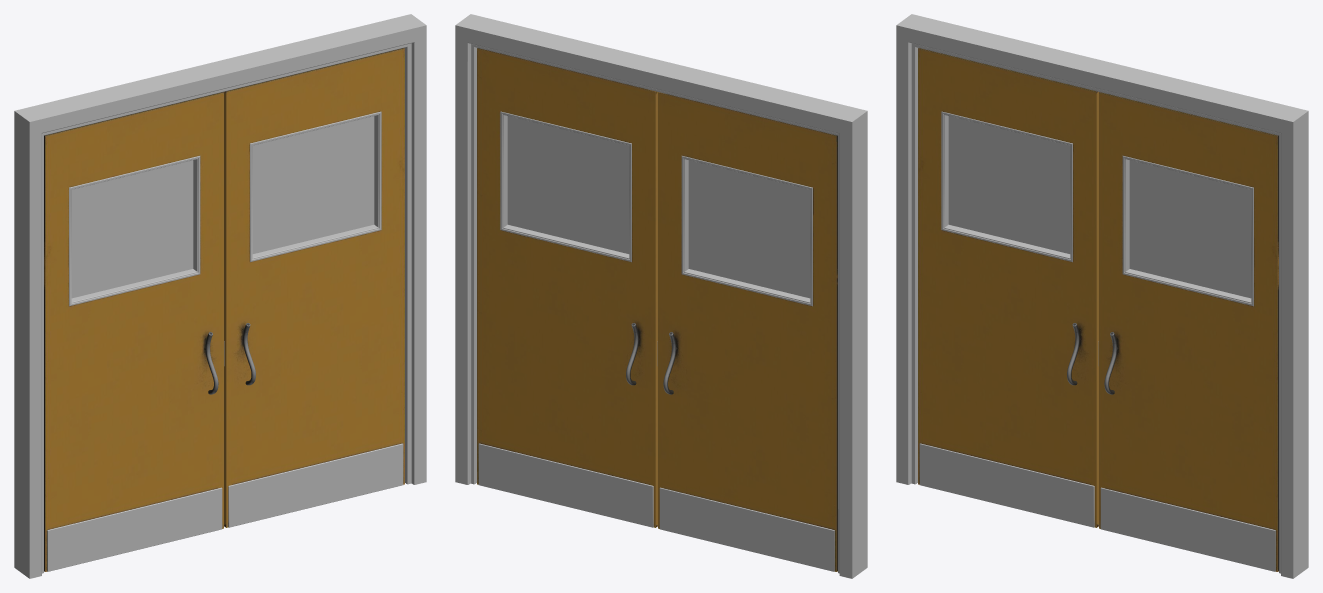
The model's file is Gym_door.fbx.
The picture shows the model from 3 angles, left to right: view 1: azimuth 30°, elevation 25°; view 2: azimuth 150°, elevation 25°; view 3: azimuth 330°, elevation 25°; orthographic projection.
Visible parts, largest first — view 1: L_01_0, R_01_0, F1_02_0, R_GLASS_0, L_GLASS_0, F2_02_0, L_02_0, R_02_0, F3_02_0; view 2: L_01_0, R_01_0, F1_02_0, R_GLASS_0, L_GLASS_0, F2_02_0, L_02_0, R_02_0, F3_02_0; view 3: R_01_0, L_01_0, F3_02_0, L_GLASS_0, R_GLASS_0, F2_02_0, R_02_0, L_02_0, F1_02_0.
Part boxes in pixels (left/top/right/bottom): L_01_0: left=223, top=48, right=404, bottom=527; R_01_0: left=44, top=92, right=223, bottom=571; F1_02_0: left=14, top=111, right=43, bottom=578; R_GLASS_0: left=71, top=160, right=193, bottom=298; L_GLASS_0: left=252, top=116, right=374, bottom=253; F2_02_0: left=14, top=14, right=426, bottom=135; L_02_0: left=224, top=111, right=403, bottom=527; R_02_0: left=47, top=156, right=222, bottom=571; F3_02_0: left=405, top=25, right=426, bottom=484; L_01_0: left=477, top=48, right=658, bottom=527; R_01_0: left=658, top=92, right=837, bottom=571; F1_02_0: left=838, top=111, right=867, bottom=578; R_GLASS_0: left=688, top=160, right=810, bottom=298; L_GLASS_0: left=507, top=116, right=629, bottom=253; F2_02_0: left=455, top=14, right=867, bottom=135; L_02_0: left=478, top=111, right=657, bottom=527; R_02_0: left=659, top=156, right=834, bottom=571; F3_02_0: left=455, top=25, right=476, bottom=484; R_01_0: left=918, top=48, right=1099, bottom=527; L_01_0: left=1099, top=92, right=1278, bottom=571; F3_02_0: left=1279, top=111, right=1308, bottom=578; L_GLASS_0: left=1129, top=160, right=1251, bottom=298; R_GLASS_0: left=948, top=116, right=1070, bottom=253; F2_02_0: left=896, top=14, right=1308, bottom=135; R_02_0: left=919, top=111, right=1098, bottom=527; L_02_0: left=1100, top=156, right=1275, bottom=571; F1_02_0: left=896, top=25, right=917, bottom=484.
Size of the model in its own units: 274 by 301 by 37.4.
